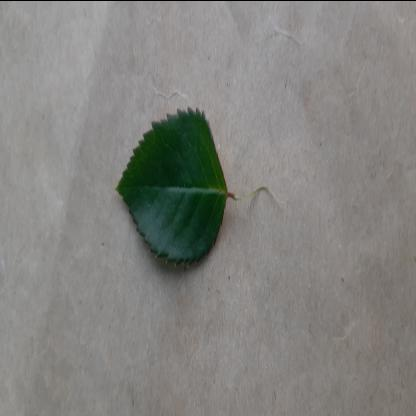normal: (115, 101, 229, 289)
